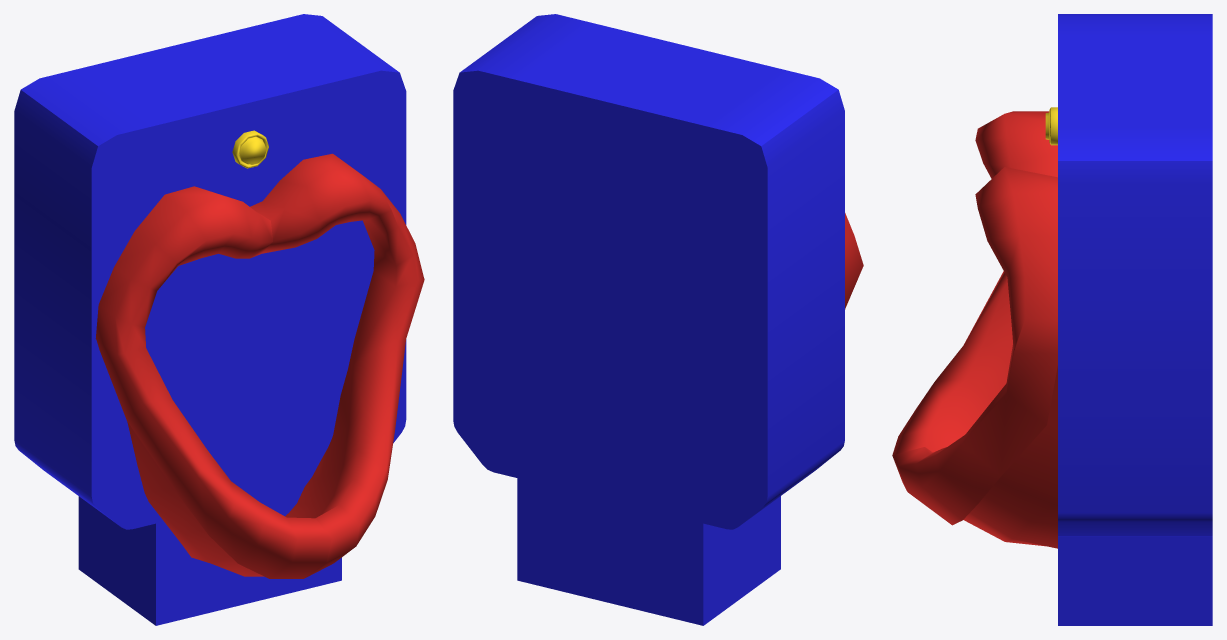
File: urinario_model.FBX
3 views of the same model, side by side, from view 1: azimuth 30°, elevation 25°; view 2: azimuth 150°, elevation 25°; view 3: azimuth 270°, elevation 25° (orthographic).
Parts seen in each view (by area): view 1: urinario_tanque, urinario_boca, urinario_boton; view 2: urinario_tanque, urinario_boca; view 3: urinario_tanque, urinario_boca, urinario_boton.
Part boxes in pixels (x1=…): urinario_tanque: x1=14, y1=14, x2=406, y2=625; urinario_boca: x1=95, y1=153, x2=424, y2=578; urinario_boton: x1=232, y1=130, x2=268, y2=168; urinario_tanque: x1=453, y1=14, x2=844, y2=625; urinario_boca: x1=845, y1=213, x2=863, y2=309; urinario_tanque: x1=1058, y1=14, x2=1212, y2=625; urinario_boca: x1=892, y1=111, x2=1057, y2=548; urinario_boton: x1=1045, y1=107, x2=1057, y2=145.
Size of the model in its own units: 100 by 152 by 88.4.
